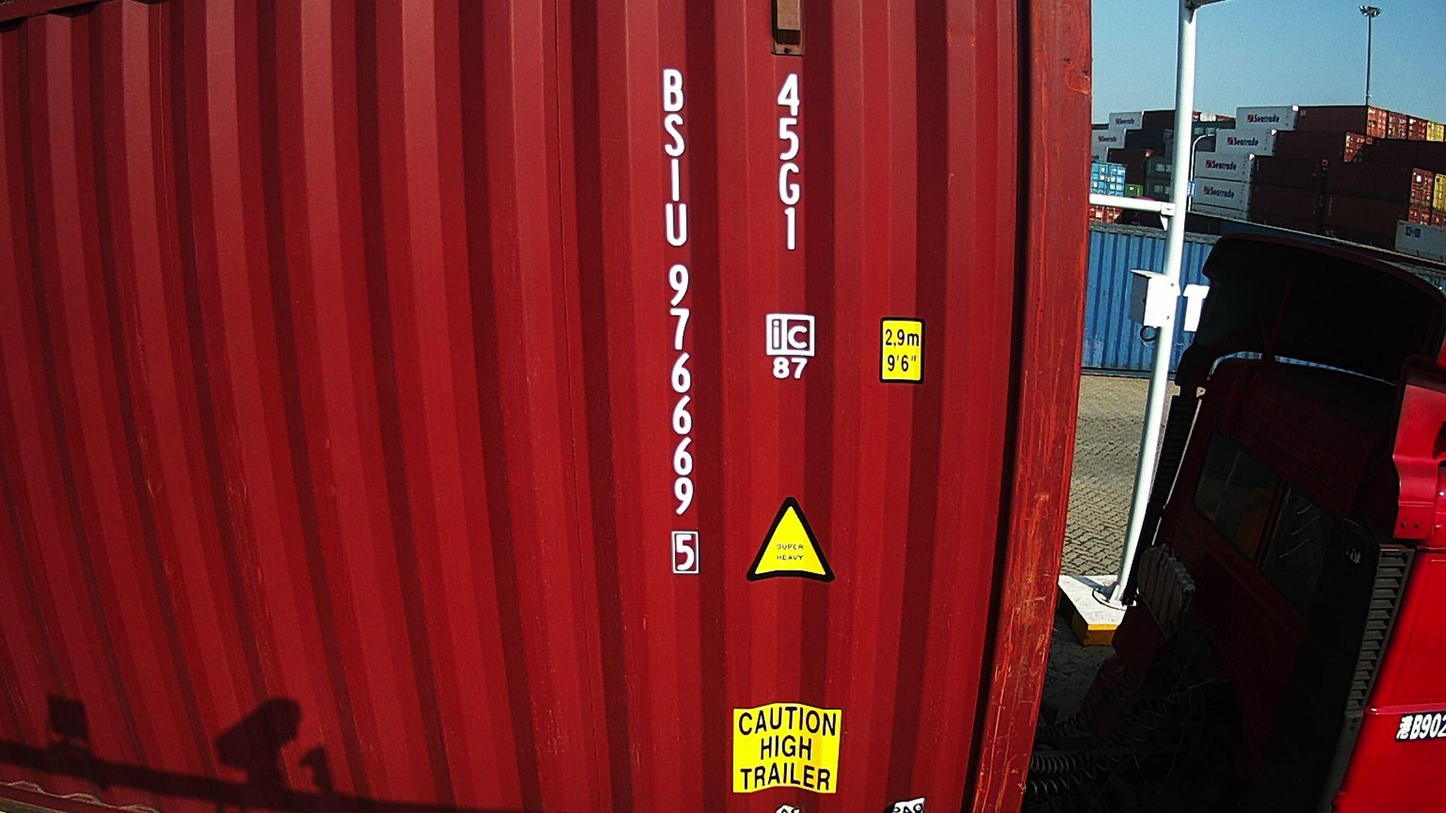container-numbers: (655, 61, 703, 579), (770, 68, 809, 257)
